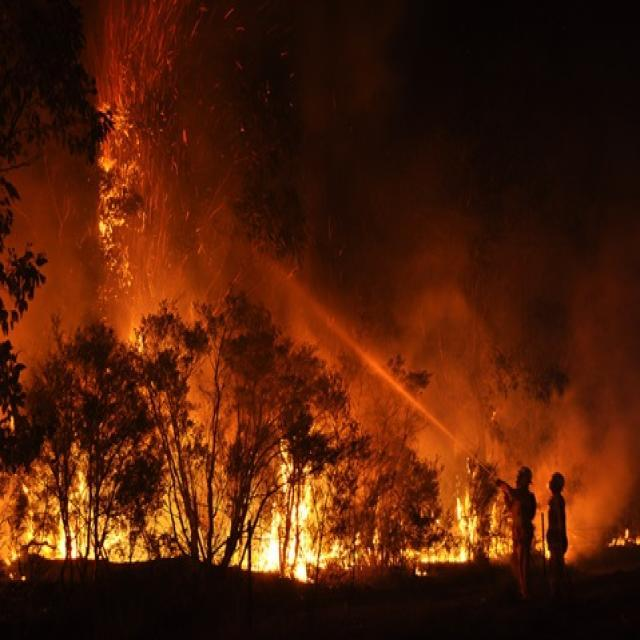Fire: (35, 479, 122, 568), (264, 490, 324, 573), (447, 500, 512, 562), (112, 144, 133, 232)
